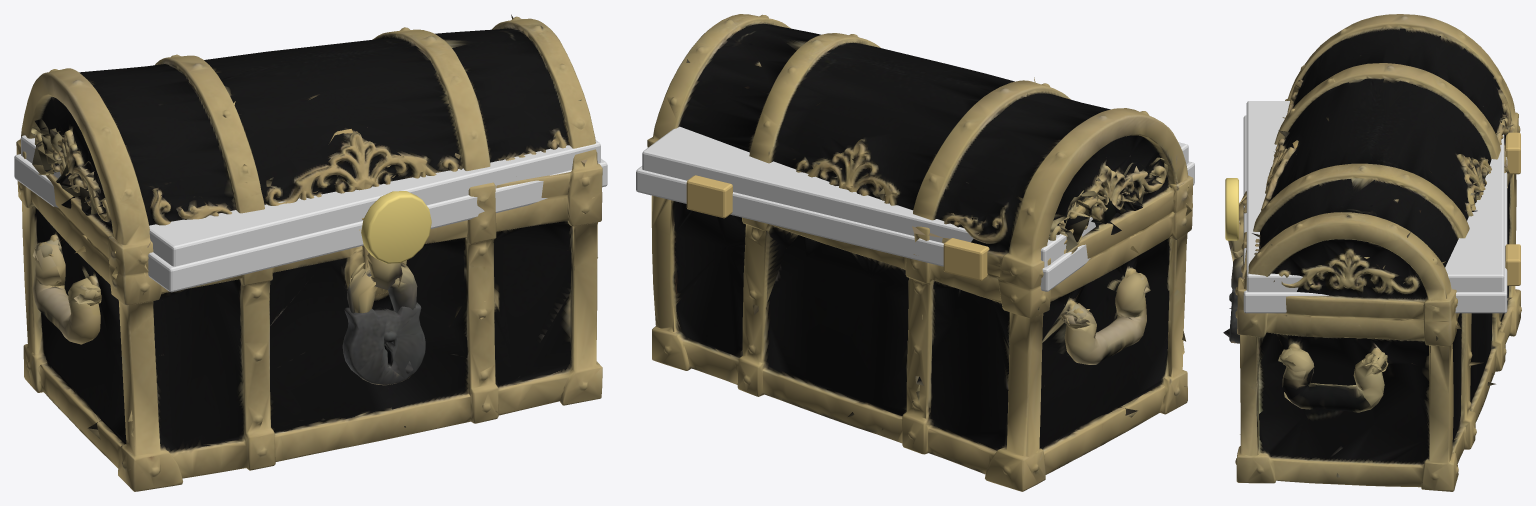
The model's file is SM_Box_BrassChest.fbx.
3 renders of one model, left to right at view 1: azimuth 30°, elevation 25°; view 2: azimuth 150°, elevation 25°; view 3: azimuth 270°, elevation 25°, orthographic. The views are drawn at different scales.
Parts seen in each view (by area): view 1: BoxBody, LidPivot, VelvetRim, SealPart; view 2: BoxBody, LidPivot, VelvetRim, HingePlate_1.0, HingePlate_-1.0; view 3: LidPivot, BoxBody, VelvetRim, SealPart, HingePlate_1.0, HingePlate_-1.0.
Part boxes in pixels (box(x1,y1,x2,y2)): BoxBody: box(16, 154, 602, 491); LidPivot: box(16, 14, 602, 266); VelvetRim: box(14, 154, 607, 292); SealPart: box(361, 191, 431, 263); BoxBody: box(651, 191, 1192, 491); LidPivot: box(642, 14, 1193, 278); VelvetRim: box(636, 161, 1194, 291); HingePlate_1.0: box(686, 175, 732, 218); HingePlate_-1.0: box(943, 238, 989, 280); LidPivot: box(1236, 14, 1520, 307); BoxBody: box(1223, 132, 1521, 491); VelvetRim: box(1243, 115, 1507, 313); SealPart: box(1225, 178, 1238, 240); HingePlate_1.0: box(1505, 244, 1520, 285); HingePlate_-1.0: box(1505, 132, 1520, 174).
Size of the model in its own units: 0.4271 by 0.2926 by 0.2661.
